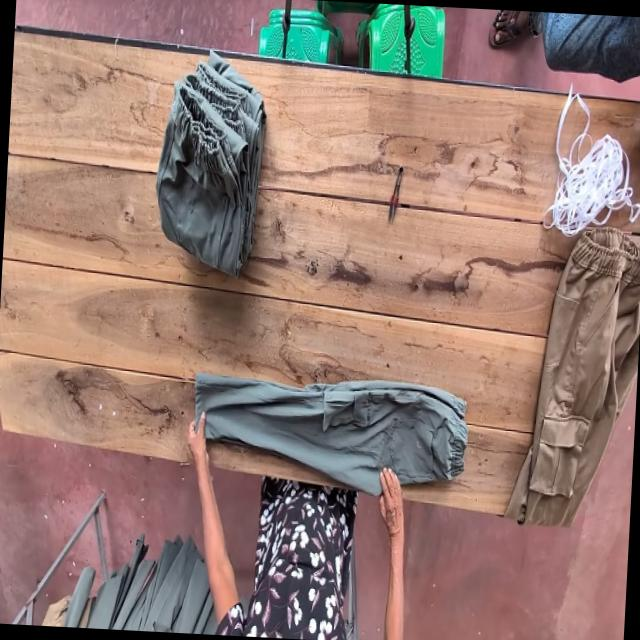new-garment: (196, 374, 467, 494)
